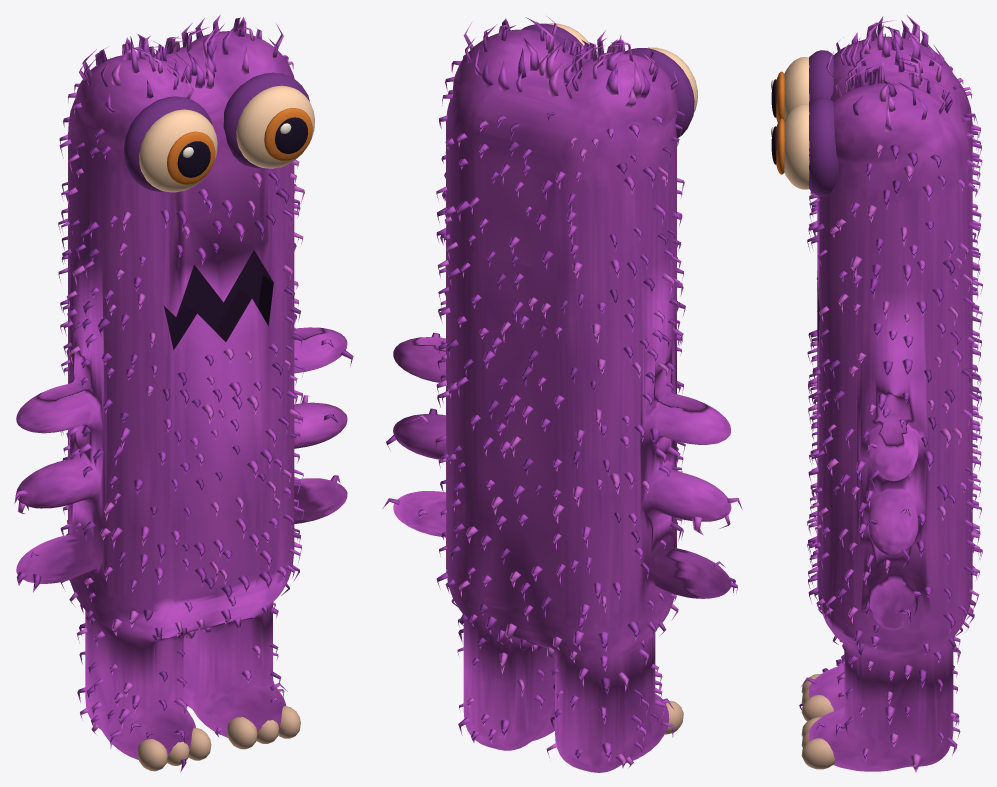
The model's file is 05-paars-stekelig-monster.glb.
3 renders of one model, left to right at view 1: azimuth 30°, elevation 25°; view 2: azimuth 150°, elevation 25°; view 3: azimuth 270°, elevation 25°, orthographic. The views are drawn at different scales.
Parts seen in each view (by area): view 1: head_005, head_008, body_023, head_004, leg_r_001, leg_l_001, body_002, body_001, body_003, head_007, body_029, body_047 (+34 smaller); view 2: head_011, head_003, body_004, body_001, body_002, body_003, head_009, head_012, leg_l_002, leg_r_002, body_041, body_019 (+35 smaller); view 3: body_039, body_040, body_034, body_033, head_010, head_001, head_002, head_006, head_005, head_008, leg_r_002, body_038 (+19 smaller).
Part boxes in pixels (x1,y1,x2,y2): head_005: (180,24,314,168); head_008: (123,46,218,192); body_023: (72,251,166,355); head_004: (76,164,170,268); leg_r_001: (198,650,300,749); leg_l_001: (107,671,211,772); body_002: (16,321,122,437); body_001: (14,425,123,525); body_003: (16,503,122,608); head_007: (76,36,159,180); body_029: (120,353,174,448); body_047: (83,594,166,686); head_011: (575,61,663,194); head_003: (572,167,668,280); body_004: (575,259,670,374); body_001: (620,437,742,546); body_002: (619,334,730,451); body_003: (620,516,737,625); head_009: (473,37,563,175); head_012: (522,44,614,189); leg_l_002: (546,684,652,772); leg_r_002: (458,665,554,750); body_041: (573,609,662,707); body_019: (567,540,621,630); body_039: (828,367,962,490); body_040: (829,278,962,378); body_034: (827,450,956,566); body_033: (826,537,955,634); head_010: (890,82,974,204); head_001: (893,180,980,290); head_002: (809,192,893,298); head_006: (831,80,896,209); head_005: (771,62,893,196); head_008: (771,19,903,122); leg_r_002: (879,690,960,772); body_038: (893,606,969,702).
Bounding box in the file's own units: 2.51 × 5 × 1.37.
